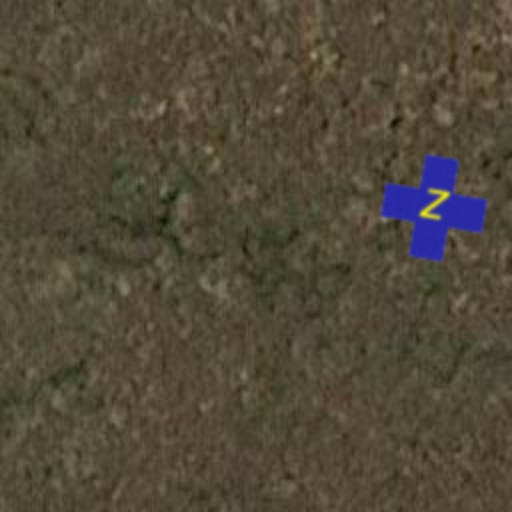cross: (374, 148, 494, 268)
